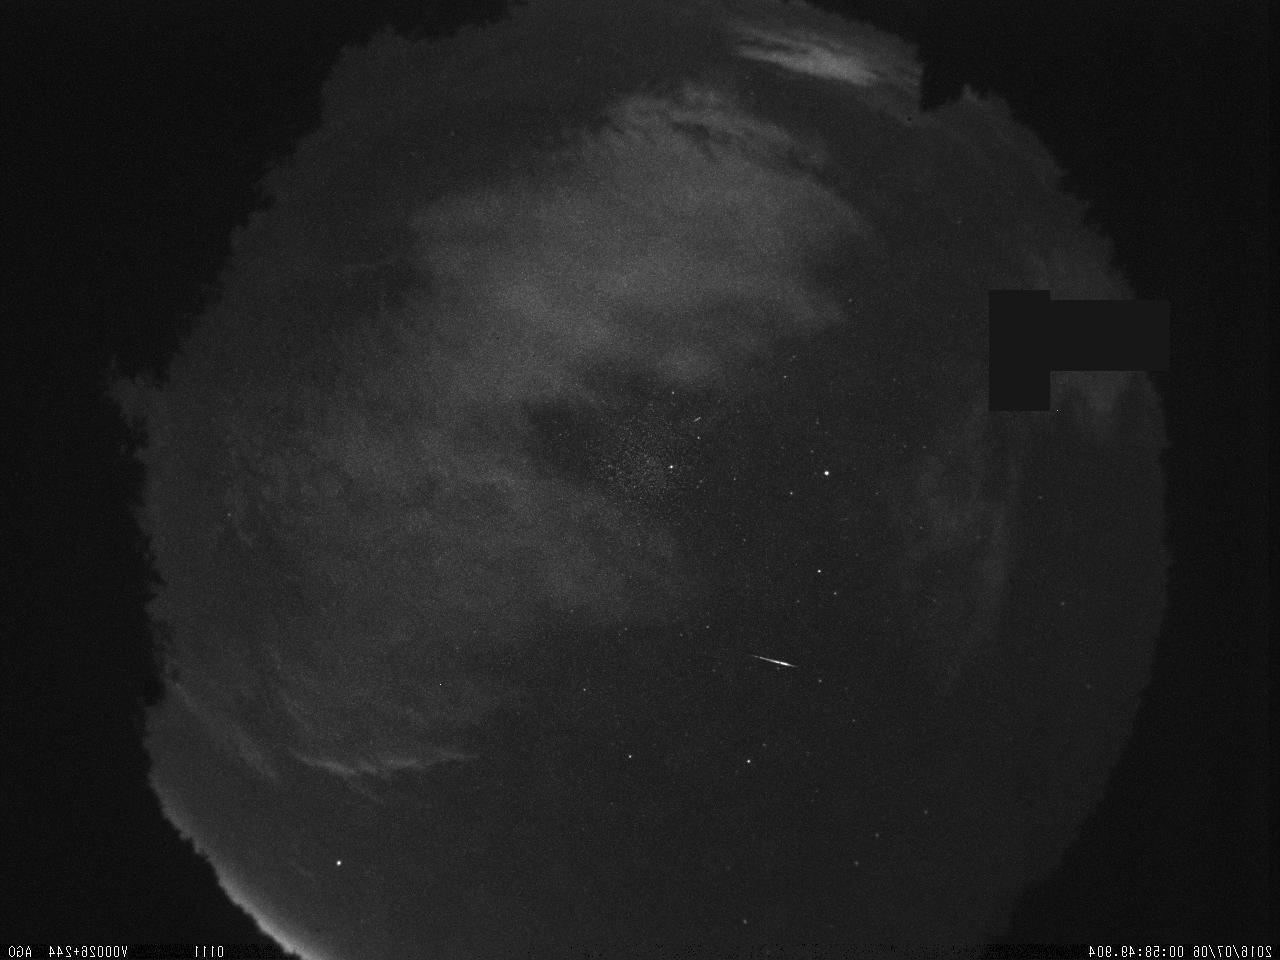meteor: (741, 644, 801, 678)
